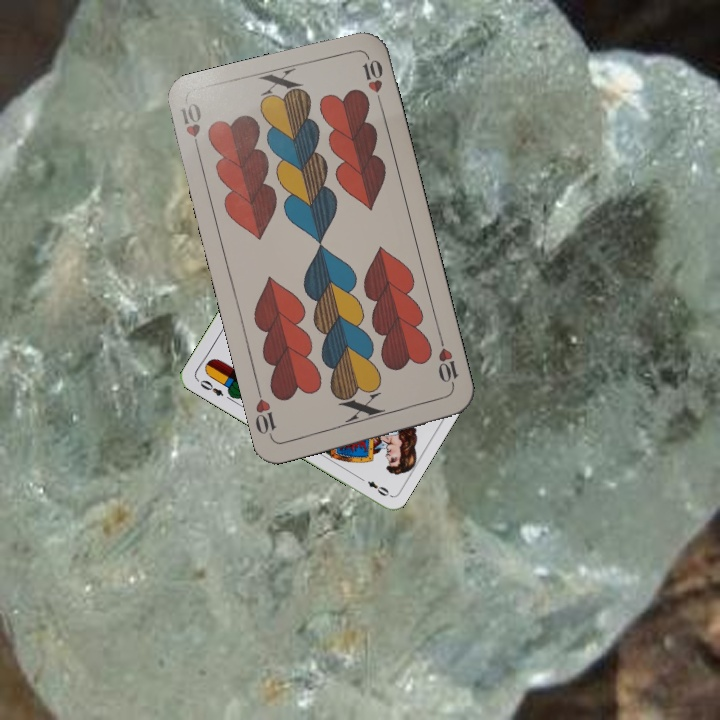EO: (196, 376, 226, 399)
H10: (176, 98, 204, 158), (434, 334, 461, 393)
